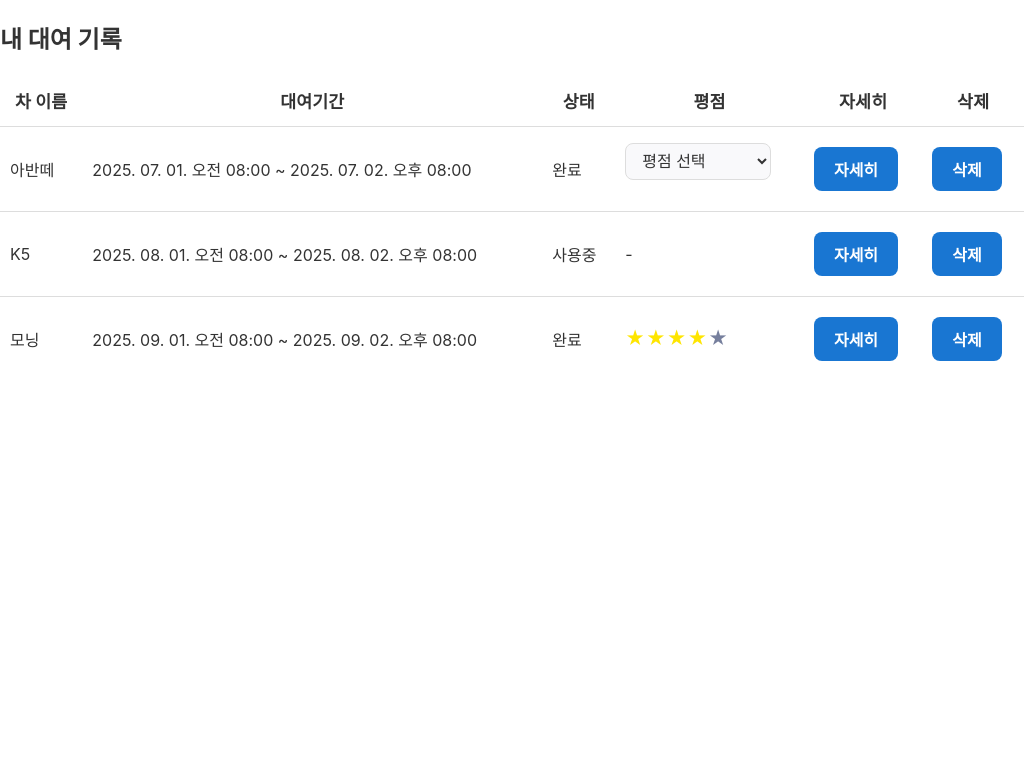
Test: 자세히 버튼 클릭 시 상세 모달 열리고 닫힘
Click the button "자세히" in the row of "아반떼" at [856, 169], box [814,147,898,191]
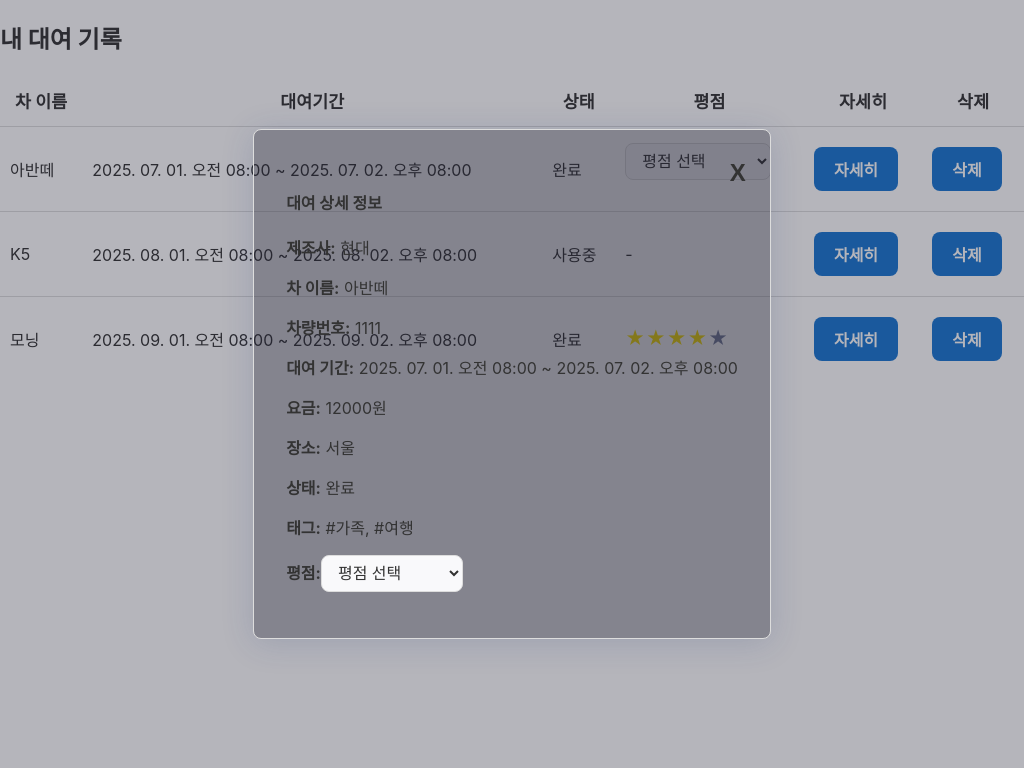
Result: the heading "대여 상세 정보" is shown at [286,192,382,212]
Click the button "X" at [738, 173], box [722,153,754,193]
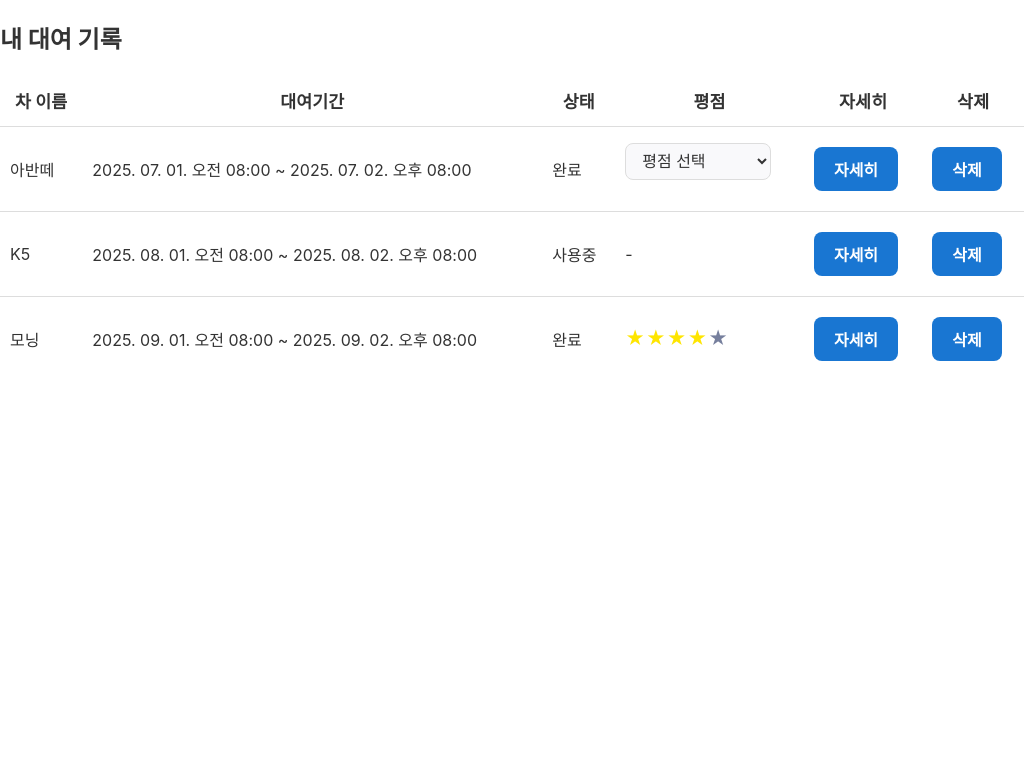
Result: the heading "대여 상세 정보" is gone
